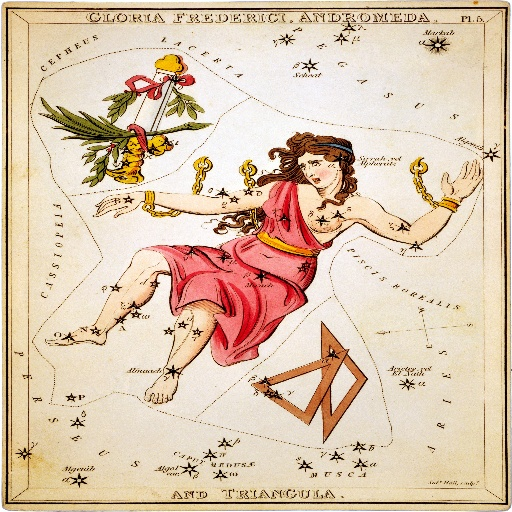hand: (437, 157, 481, 196), (89, 190, 146, 217)
